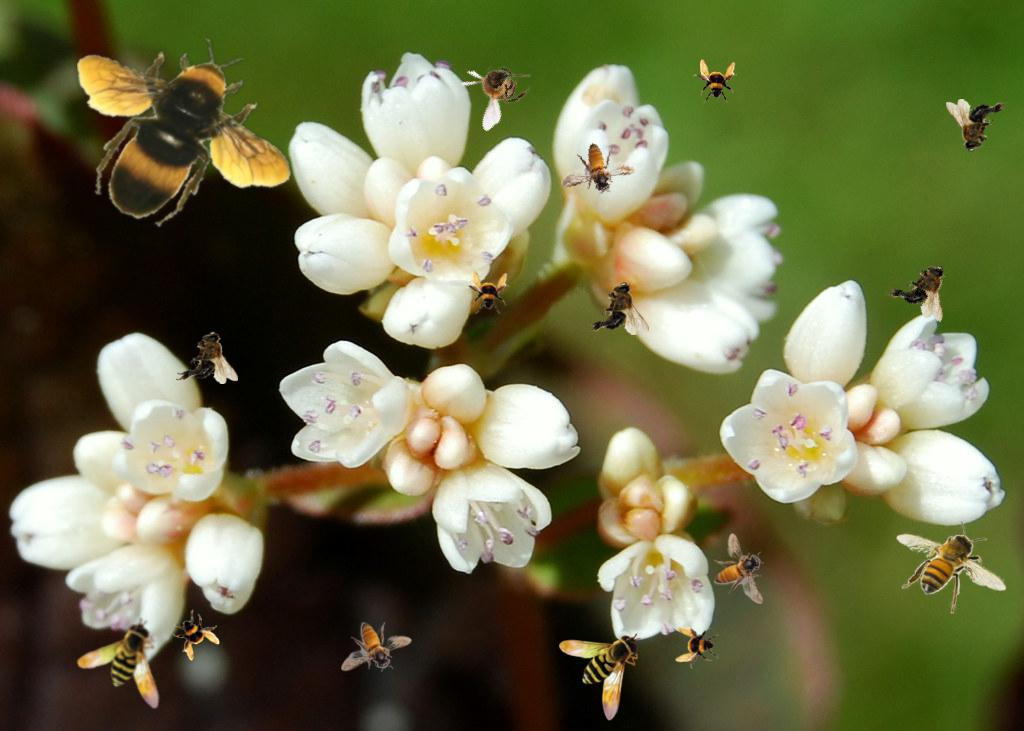Bee: (69, 31, 299, 234), (71, 616, 185, 731), (896, 520, 1007, 614), (450, 41, 543, 133), (559, 633, 641, 721), (883, 249, 964, 325), (560, 137, 640, 202), (165, 603, 227, 665), (714, 533, 764, 604), (341, 622, 412, 672), (946, 99, 1008, 152), (587, 282, 649, 335), (176, 331, 238, 384), (465, 270, 509, 314), (675, 625, 719, 669), (693, 59, 737, 103)
